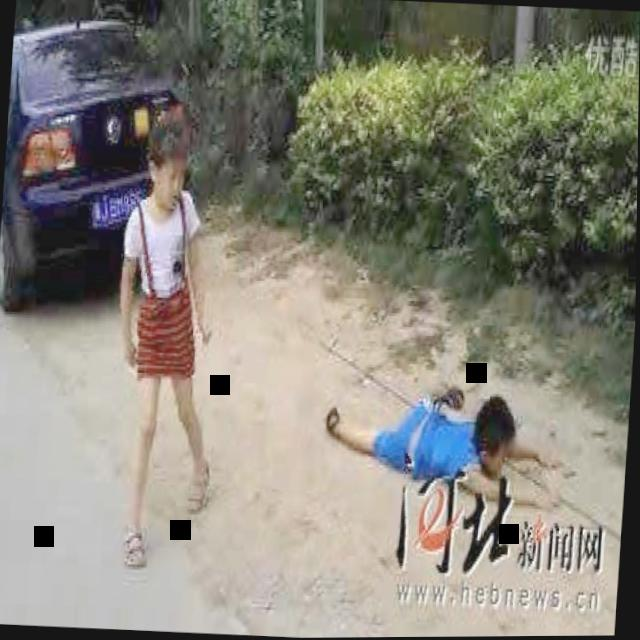Fall-Detected: (314, 354, 573, 502)
